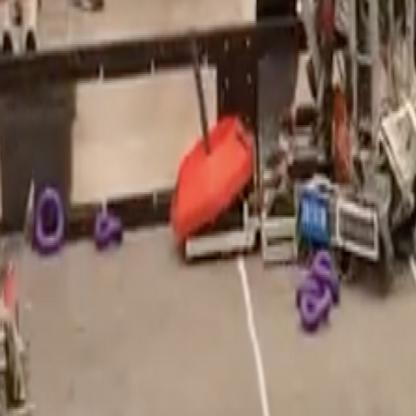ring: (32, 182, 65, 249), (310, 247, 341, 305), (301, 286, 331, 336), (94, 208, 122, 249), (296, 271, 320, 305)
